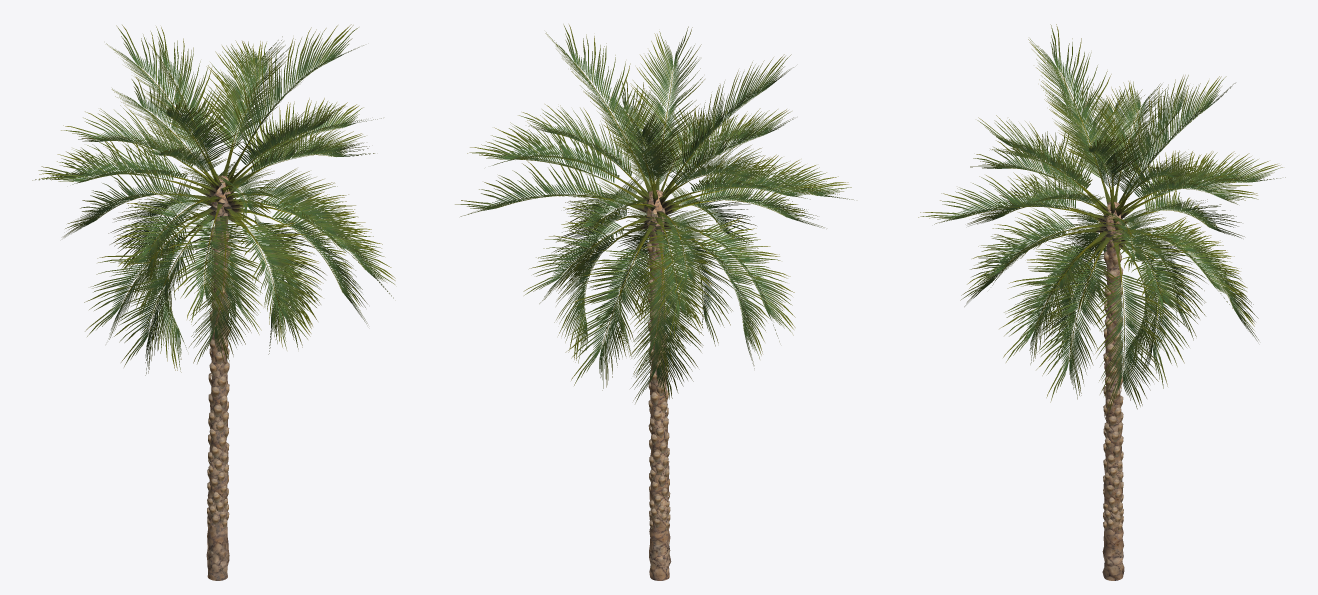
The model's file is datepalm.glb.
3 renders of one model, left to right at view 1: azimuth 30°, elevation 25°; view 2: azimuth 150°, elevation 25°; view 3: azimuth 270°, elevation 25°, orthographic. The views are drawn at different scales.
Parts seen in each view (by area): view 1: Tree_1_Tree_1Mat_0, Tree_0_Tree_0Mat_0, Tree_3_Tree_3Mat_0, Tree_2_Tree_2Mat_0; view 2: Tree_1_Tree_1Mat_0, Tree_0_Tree_0Mat_0, Tree_3_Tree_3Mat_0, Tree_2_Tree_2Mat_0; view 3: Tree_1_Tree_1Mat_0, Tree_0_Tree_0Mat_0, Tree_2_Tree_2Mat_0, Tree_3_Tree_3Mat_0.
Part boxes in pixels (left/top/right/bottom): Tree_1_Tree_1Mat_0: left=32, top=24, right=395, bottom=375; Tree_0_Tree_0Mat_0: left=206, top=175, right=230, bottom=580; Tree_3_Tree_3Mat_0: left=155, top=125, right=293, bottom=264; Tree_2_Tree_2Mat_0: left=207, top=228, right=230, bottom=528; Tree_1_Tree_1Mat_0: left=455, top=24, right=853, bottom=403; Tree_0_Tree_0Mat_0: left=647, top=190, right=671, bottom=580; Tree_3_Tree_3Mat_0: left=583, top=140, right=725, bottom=289; Tree_2_Tree_2Mat_0: left=647, top=241, right=670, bottom=530; Tree_1_Tree_1Mat_0: left=918, top=24, right=1285, bottom=415; Tree_0_Tree_0Mat_0: left=1102, top=202, right=1124, bottom=580; Tree_2_Tree_2Mat_0: left=1103, top=251, right=1123, bottom=531; Tree_3_Tree_3Mat_0: left=1049, top=156, right=1167, bottom=292.
Bounding box in the file's own units: 5.46 × 7.34 × 5.21.
Materials: 4 (4 with a texture image).
